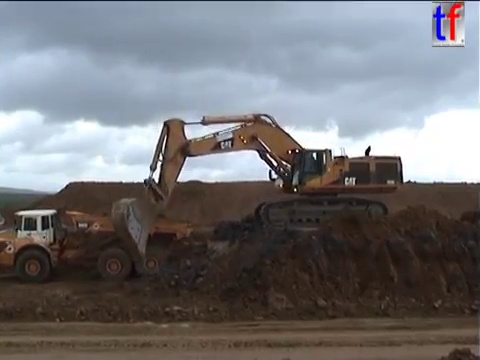excavator: (107, 110, 406, 265)
truck: (1, 206, 196, 285)
